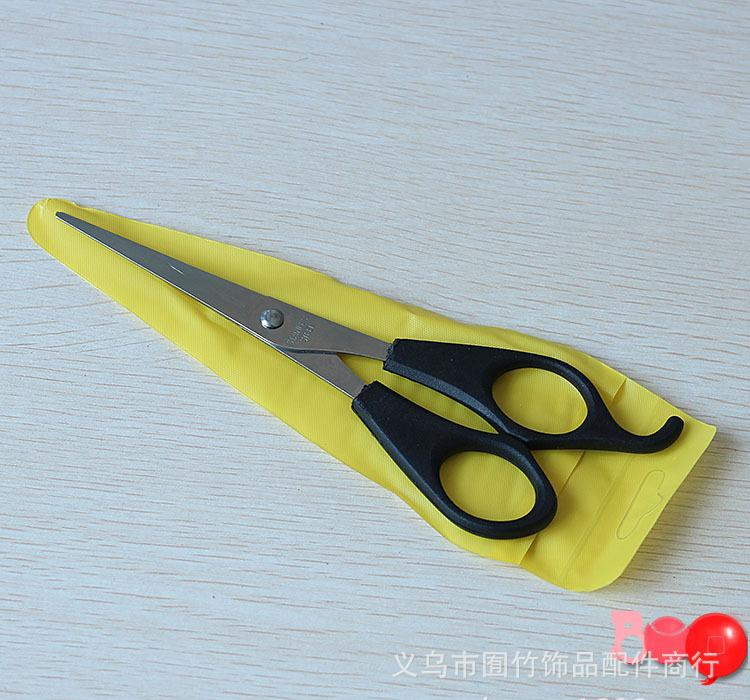scissor: (54, 172, 666, 570)
